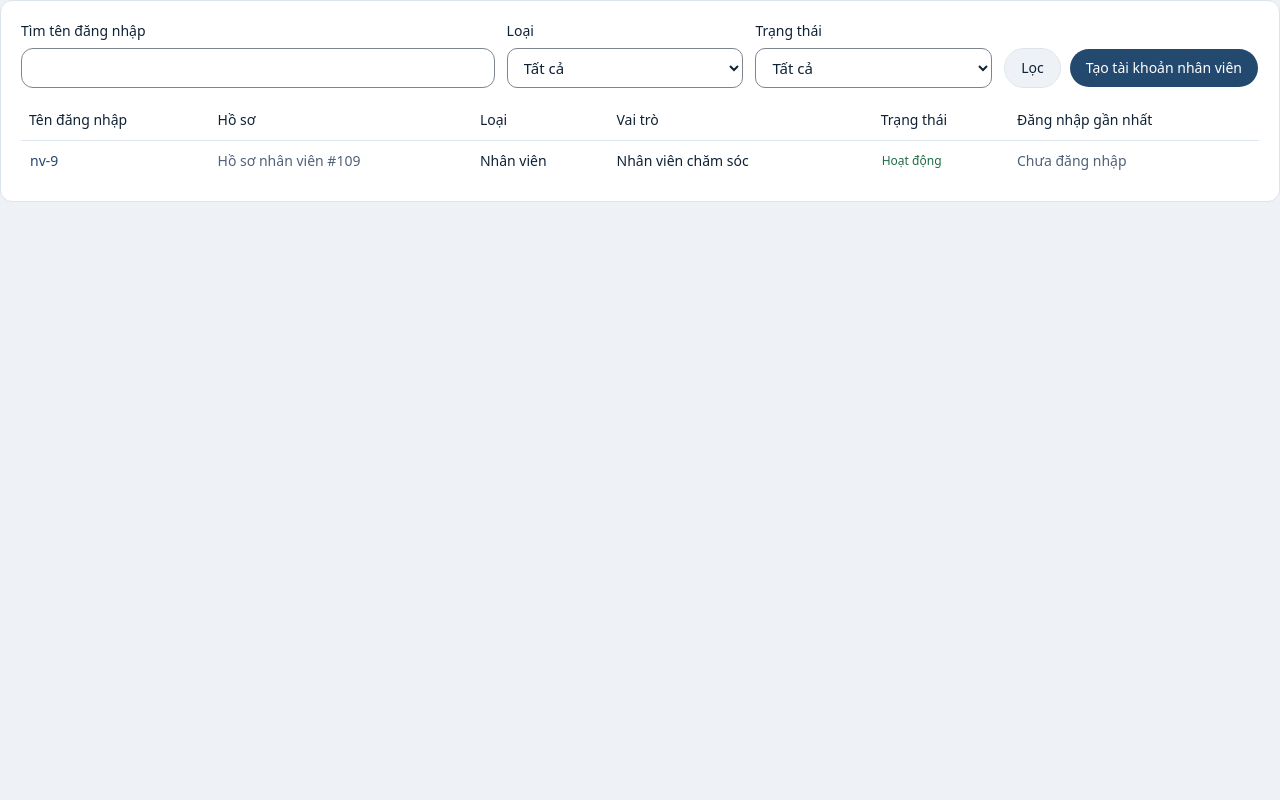
AccountList › FR_006_capLaiMatKhau_hienMatKhauTamMotLan
Click the button "nv-9" at (44, 161), box left=29, top=150, right=59, bottom=172
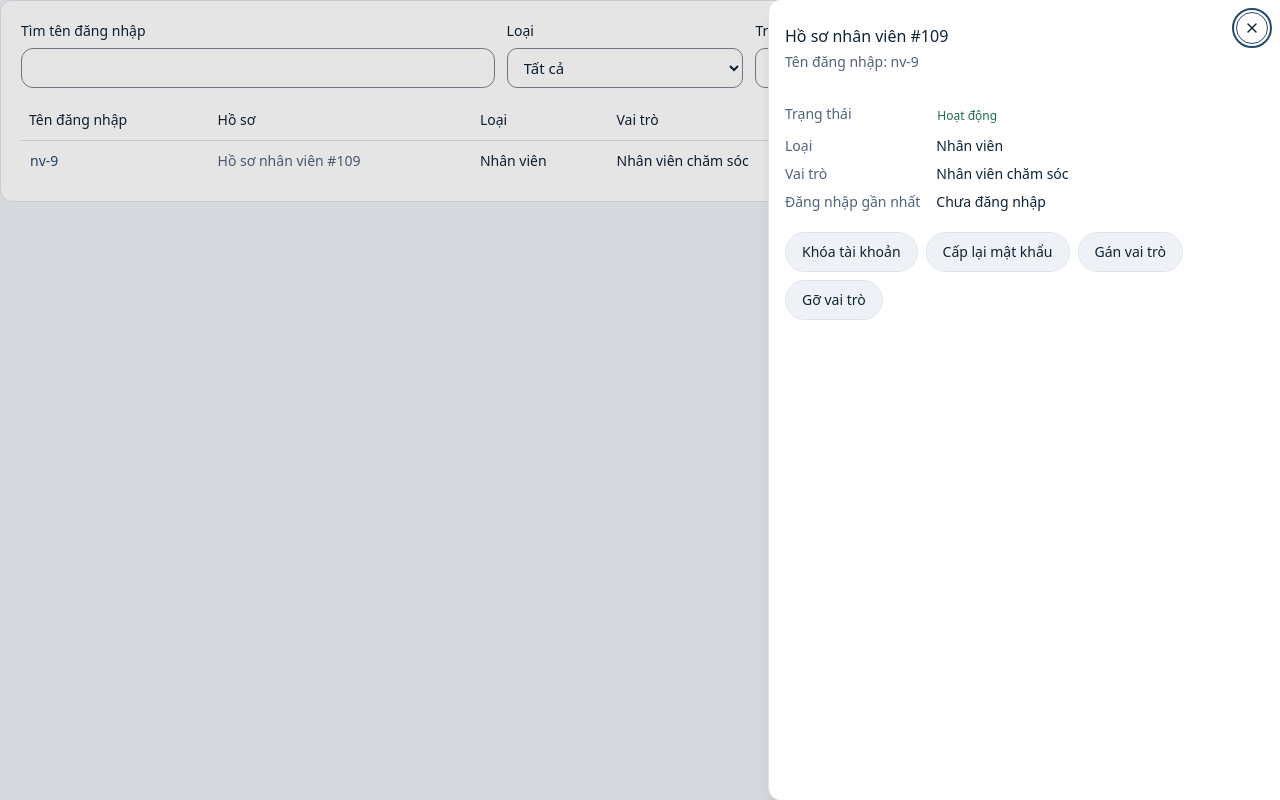
Click the button "Cấp lại mật khẩu" at (998, 252), box left=926, top=232, right=1070, bottom=272
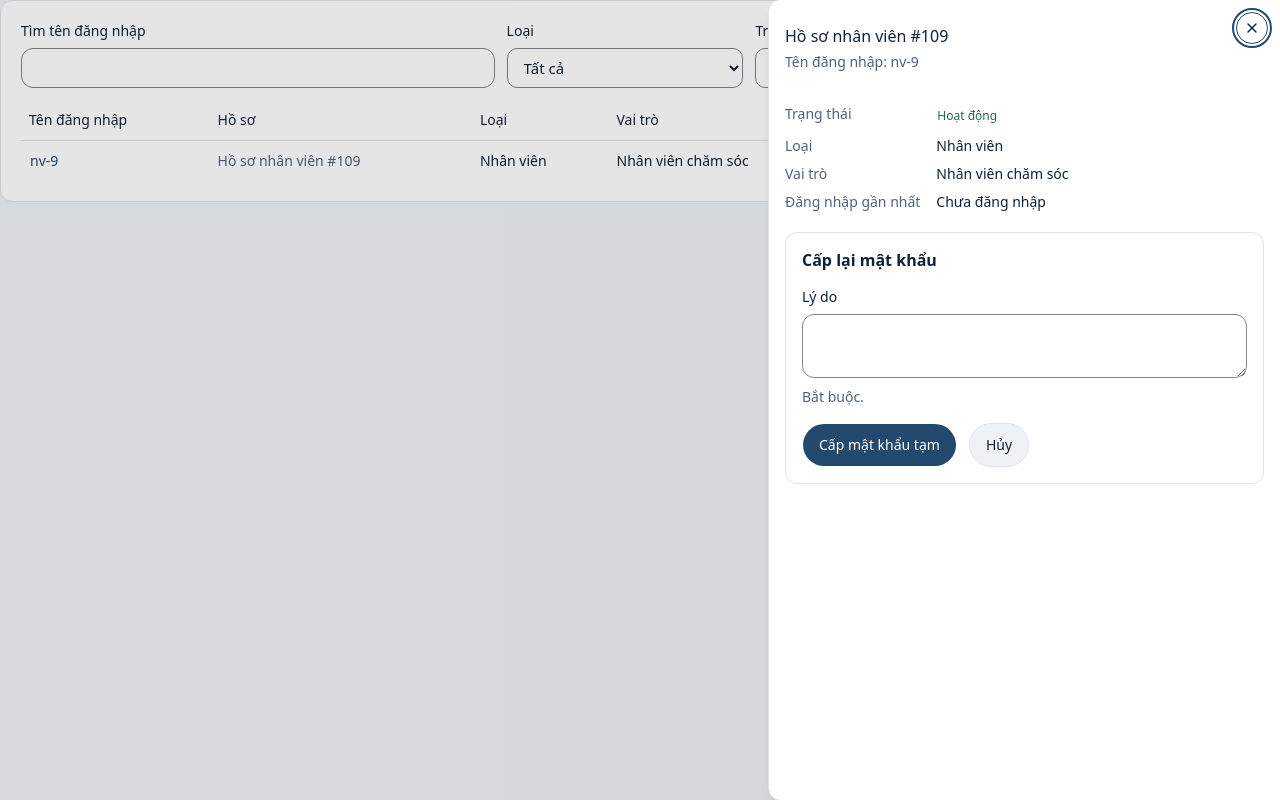
Type "Quên mật khẩu" into the text box labelled "Lý do" at (1024, 346), box left=802, top=314, right=1247, bottom=378
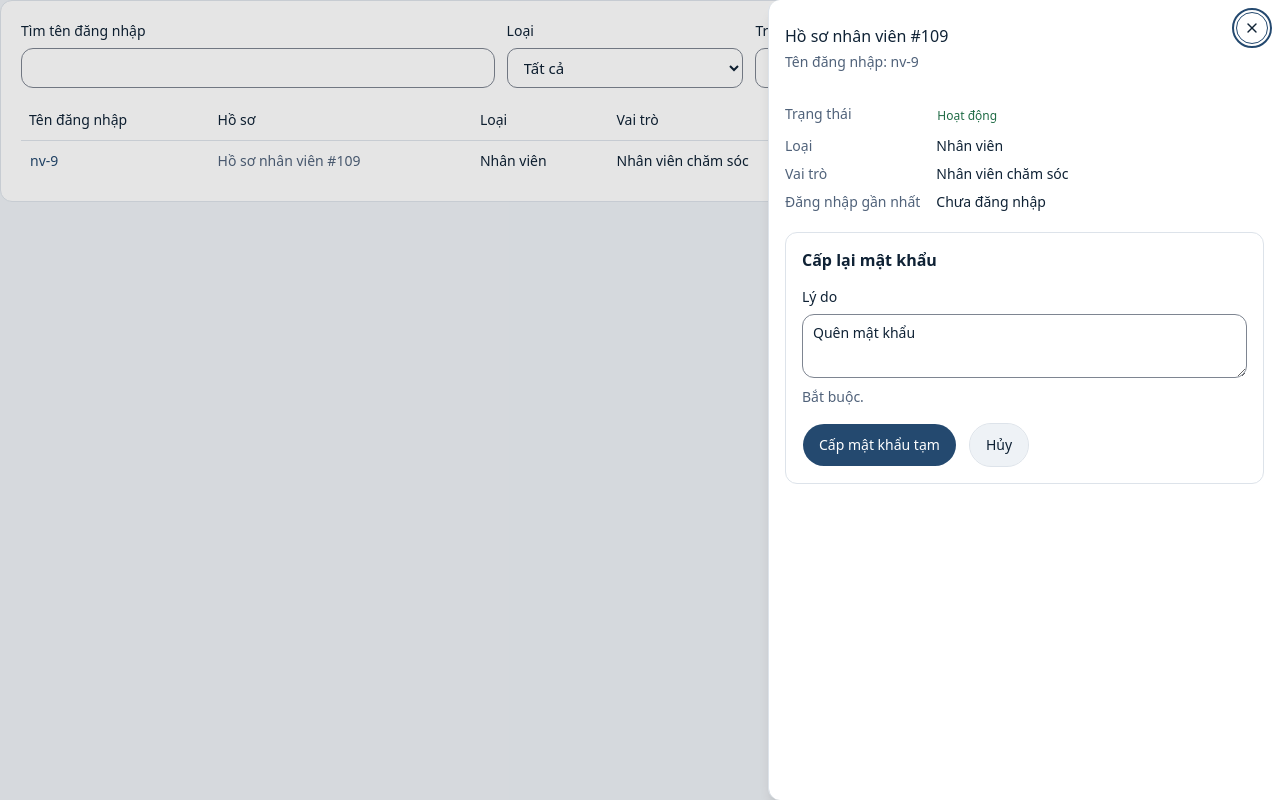
Click the button "Cấp mật khẩu tạm" at (879, 445), box left=802, top=423, right=957, bottom=467
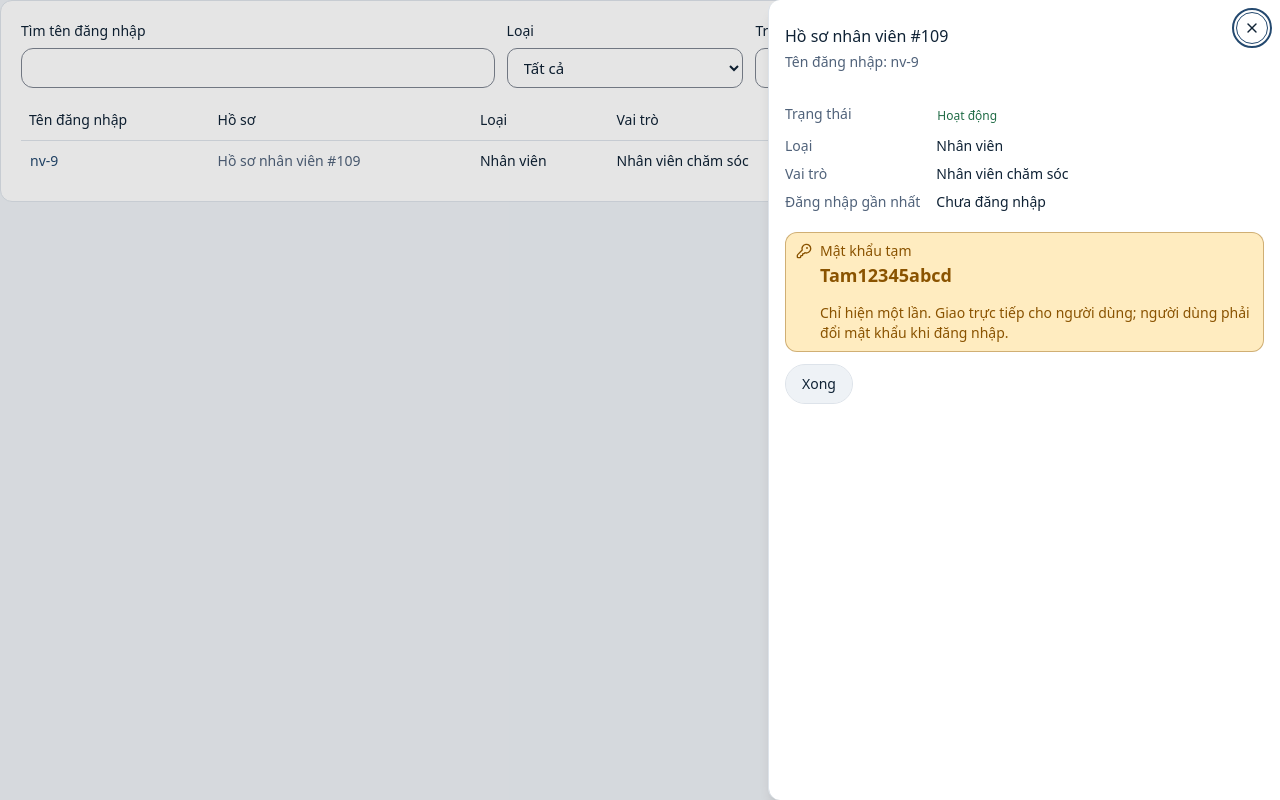
Now the text with test id "temporary-password" reads "Tam12345abcd", box left=820, top=263, right=952, bottom=287
Now the text "Chỉ hiện một lần" is shown, box left=820, top=303, right=1250, bottom=342
